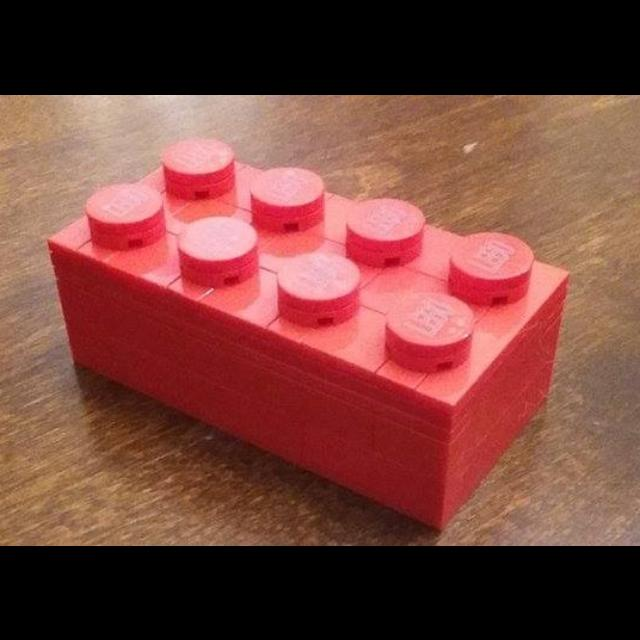2x4: (48, 138, 567, 526)
